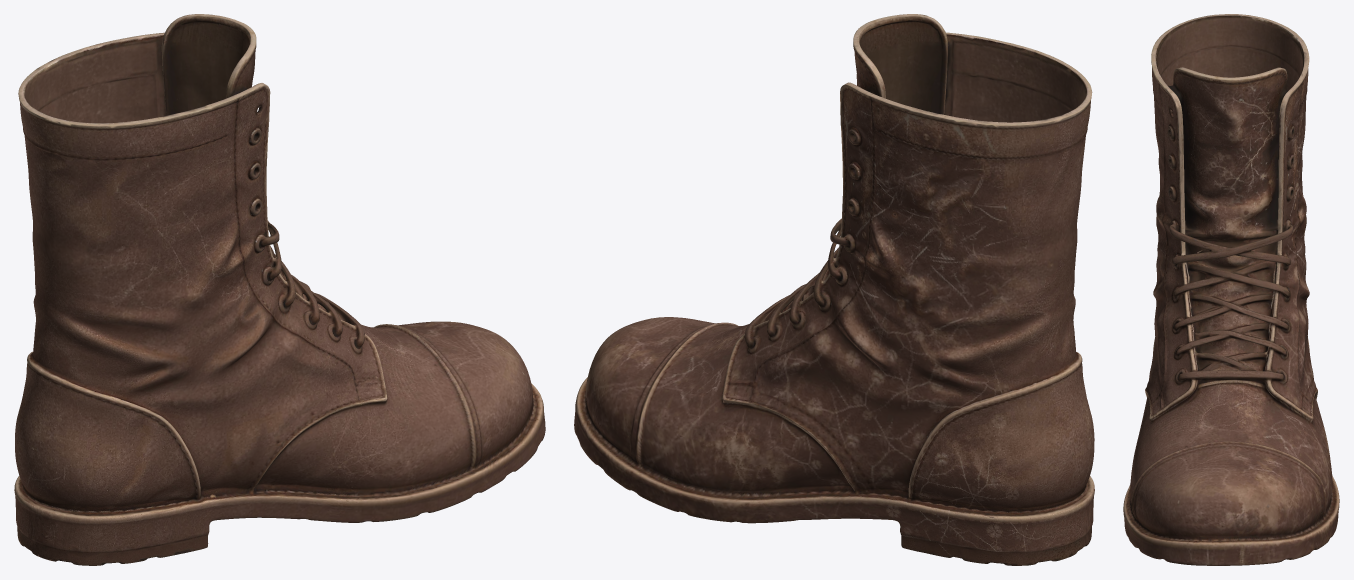
Rendered from armor_legs02.glb.
3 renders of one model, left to right at view 1: azimuth 30°, elevation 25°; view 2: azimuth 150°, elevation 25°; view 3: azimuth 270°, elevation 25°, orthographic. The views are drawn at different scales.
Visible parts, largest first — view 1: tripo_node_313a924a-2c55-4665-9a11-853dbf4de5e1; view 2: tripo_node_313a924a-2c55-4665-9a11-853dbf4de5e1; view 3: tripo_node_313a924a-2c55-4665-9a11-853dbf4de5e1.
Boxes of the visible parts, box(x1,y1,x2,y2) form: tripo_node_313a924a-2c55-4665-9a11-853dbf4de5e1: box(14, 14, 545, 565); tripo_node_313a924a-2c55-4665-9a11-853dbf4de5e1: box(574, 14, 1094, 565); tripo_node_313a924a-2c55-4665-9a11-853dbf4de5e1: box(1123, 14, 1339, 565).
Size of the model in its own units: 1 by 0.8993 by 0.4446.
1 material, 1 textured.
